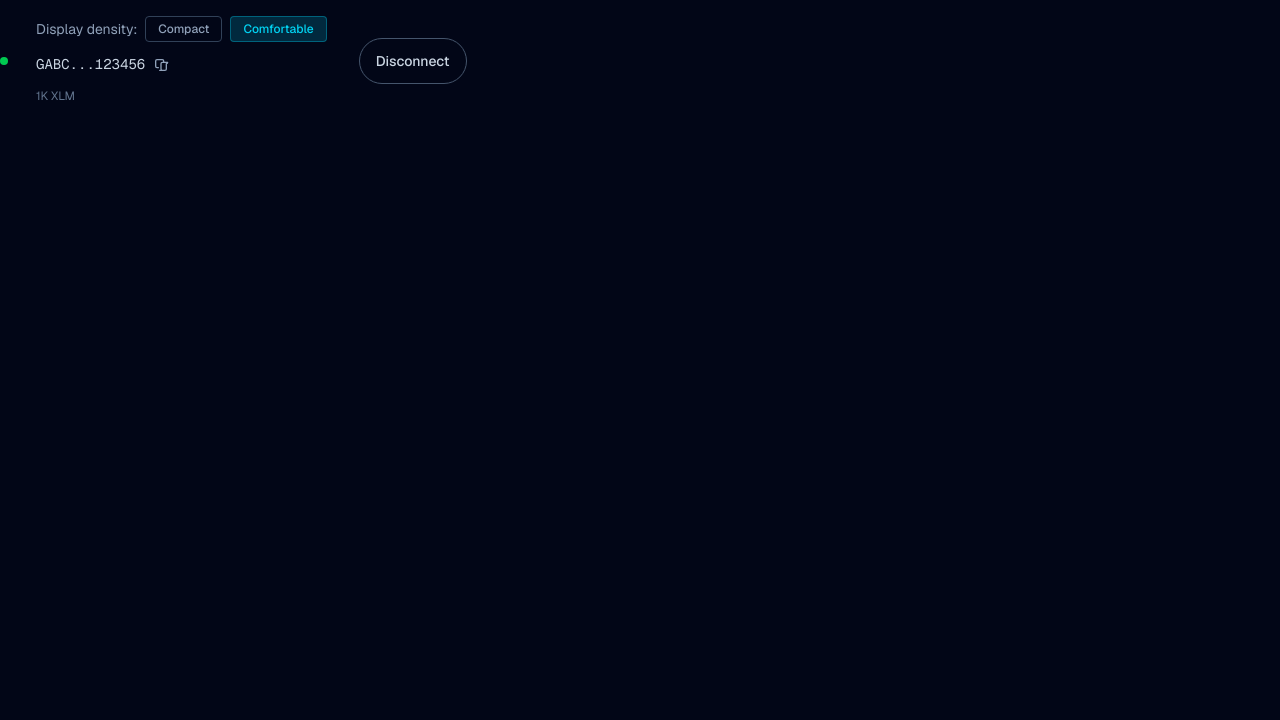
Scenario: WalletStatus copy address feature › 2a. Fallback copy flow: executes fallback when navigator.clipboard is unavailable
Click the button named "Copy wallet address": (161, 64) [153,56,169,72]
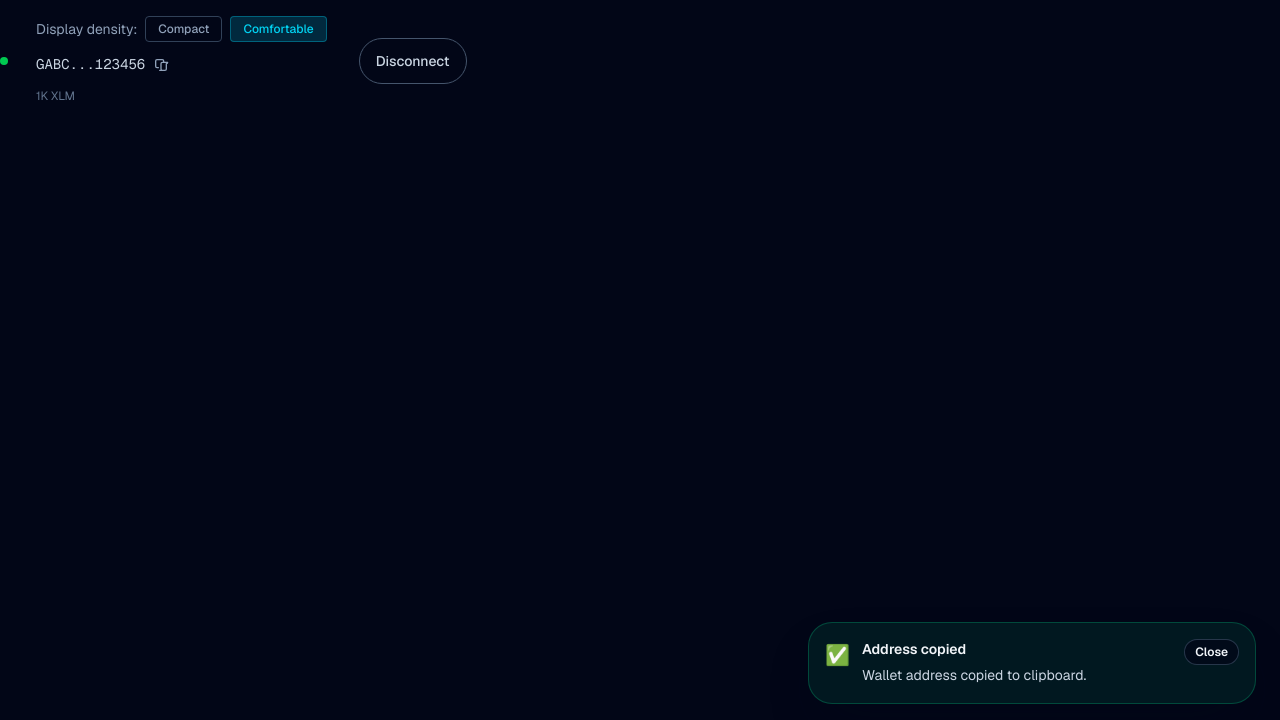
Check: the text "Wallet address copied to clipboard." is shown, box [862,666,1086,684]
